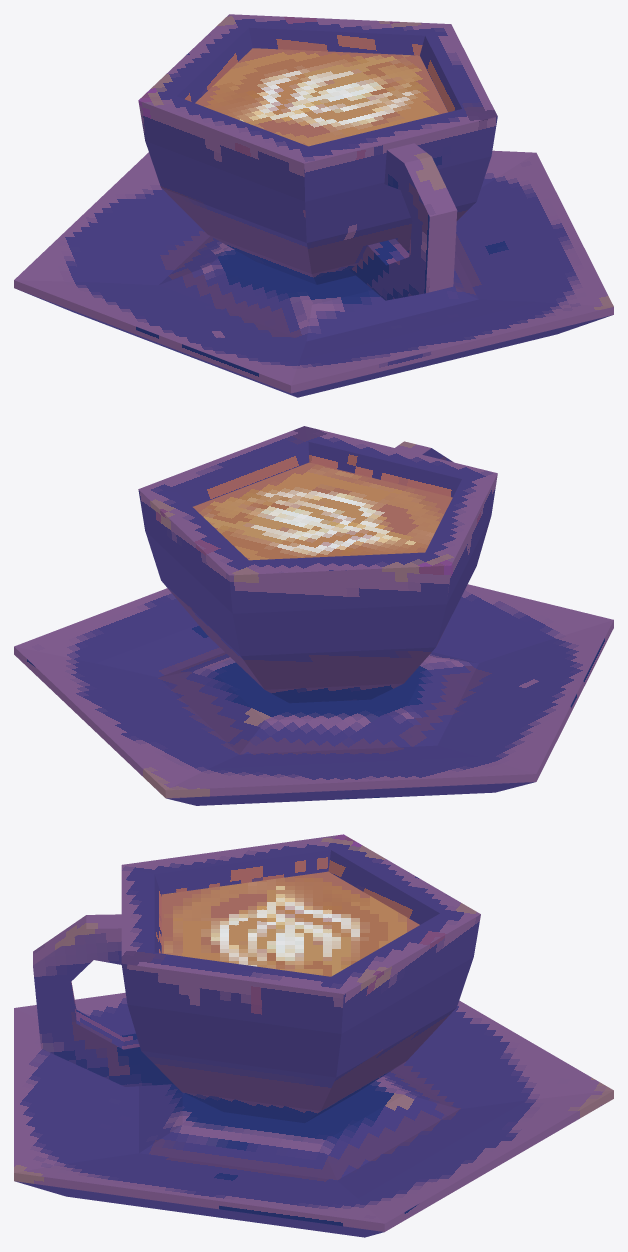
The model's file is Coffee.glb.
3 views of the same model, one above another, from view 1: azimuth 30°, elevation 25°; view 2: azimuth 150°, elevation 25°; view 3: azimuth 270°, elevation 25° (orthographic). The views are drawn at different scales.
Parts seen in each view (by area): view 1: Cylinder.002, Cylinder.001, Cylinder.003; view 2: Cylinder.002, Cylinder.001, Cylinder.003; view 3: Cylinder.002, Cylinder.001, Cylinder.003.
Boxes of the visible parts, x1,y1,x2,y2 form: Cylinder.002: (14, 150, 613, 397); Cylinder.001: (138, 14, 497, 300); Cylinder.003: (195, 48, 447, 146); Cylinder.002: (14, 584, 613, 805); Cylinder.001: (138, 426, 497, 703); Cylinder.003: (193, 462, 452, 560); Cylinder.002: (14, 992, 613, 1237); Cylinder.001: (33, 834, 480, 1123); Cylinder.003: (161, 871, 419, 976).
Size of the model in its own units: 3.23 by 1.22 by 3.07.
Materials: 2 (2 with a texture image).
